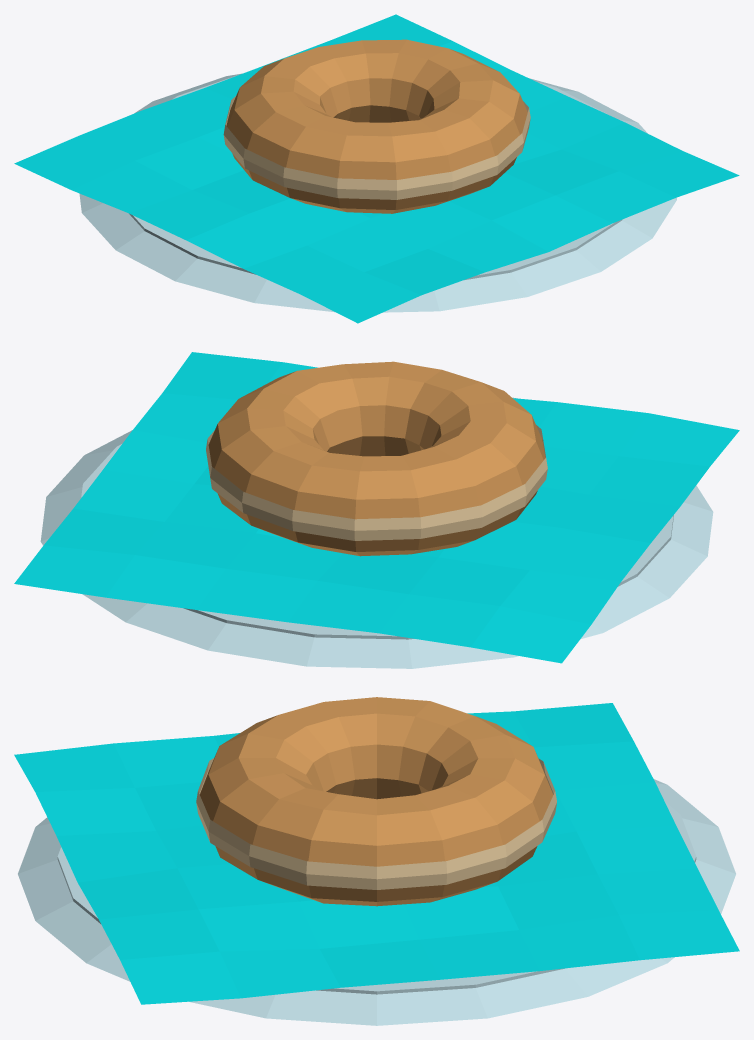
Rendered from Donut_Cooked_Plate.fbx.
3 renders of one model, top to bottom at view 1: azimuth 30°, elevation 25°; view 2: azimuth 150°, elevation 25°; view 3: azimuth 270°, elevation 25°, orthographic. The views are drawn at different scales.
Visible parts, largest first — view 1: Donut_Cooked_Plate; view 2: Donut_Cooked_Plate; view 3: Donut_Cooked_Plate.
Boxes of the visible parts, x1,y1,x2,y2 form: Donut_Cooked_Plate: [14, 14, 739, 323]; Donut_Cooked_Plate: [14, 352, 739, 668]; Donut_Cooked_Plate: [14, 697, 739, 1025].
Bounding box in the file's own units: 0.8184 × 0.1479 × 0.8184.
